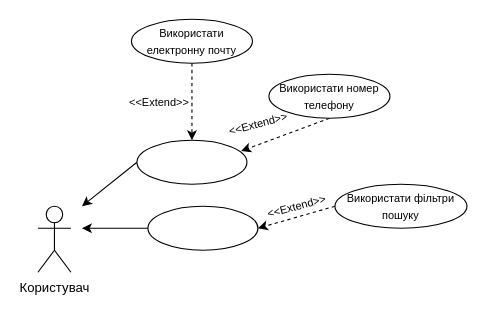
Some shapes in this 486 by 315 pixel diagram are drawn without their labels. The centre of each missing label's shape, as x and y in pixels:
Авторизуватися: the point at 191,161
Здійснити пошук: the point at 202,227
